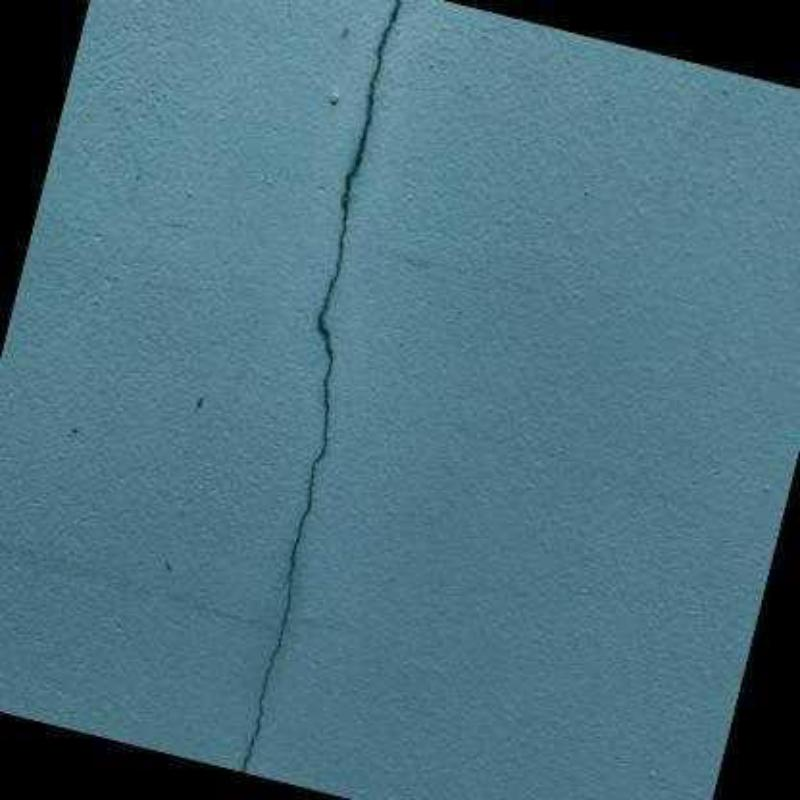pothole: (238, 0, 400, 773)
